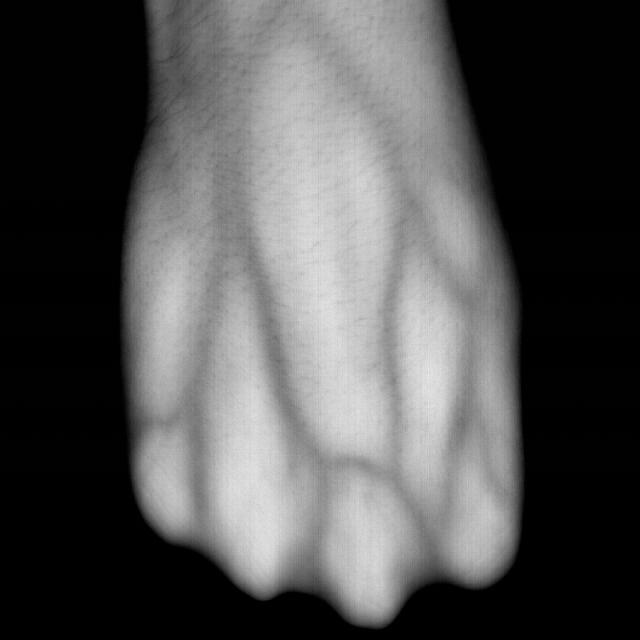Vein: (242, 172, 443, 511)
